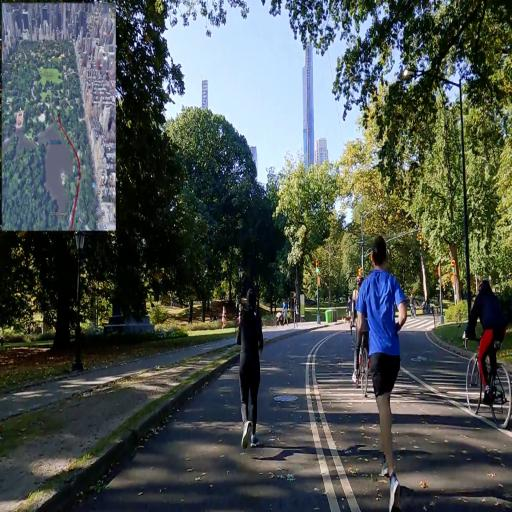Street_Light: (400, 58, 474, 322), (71, 229, 87, 379)
